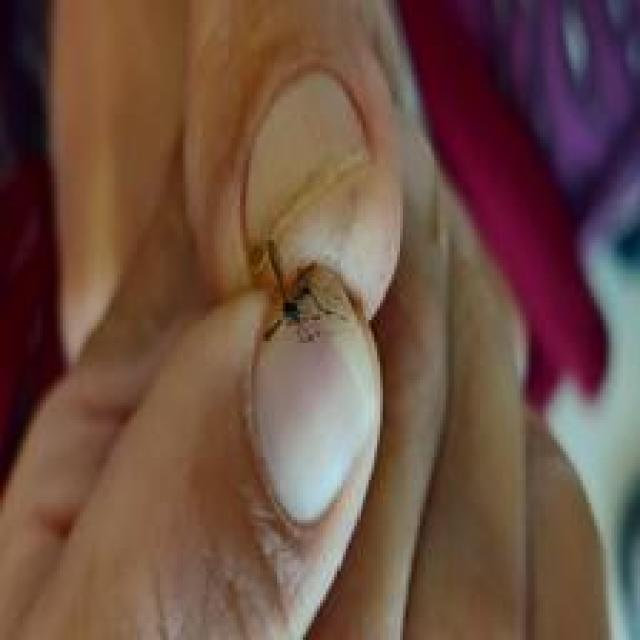Aedes albopictus: (256, 239, 350, 344)
